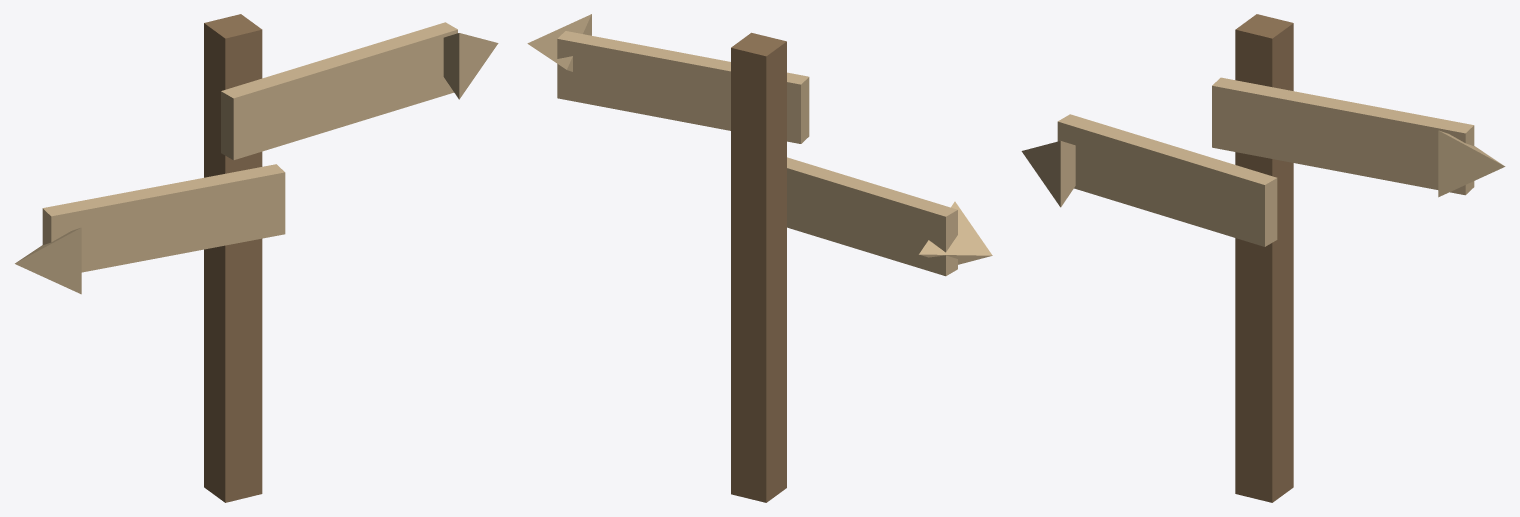
The model's file is Signpost.glb.
The picture shows the model from 3 angles, left to right: view 1: azimuth 30°, elevation 25°; view 2: azimuth 150°, elevation 25°; view 3: azimuth 330°, elevation 25°; orthographic projection. The views are drawn at different scales.
Parts seen in each view (by area): view 1: Signpost_Post, Signpost_Board, Signpost_Board.001, Signpost_Tip.001, Signpost_Tip; view 2: Signpost_Post, Signpost_Board, Signpost_Board.001, Signpost_Tip.001, Signpost_Tip; view 3: Signpost_Post, Signpost_Board, Signpost_Board.001, Signpost_Tip, Signpost_Tip.001.
Part boxes in pixels (box(x1,y1,x2,y2)): Signpost_Post: box(204, 14, 262, 502); Signpost_Board: box(221, 22, 457, 160); Signpost_Board.001: box(42, 164, 285, 272); Signpost_Tip.001: box(15, 227, 81, 294); Signpost_Tip: box(443, 33, 498, 99); Signpost_Post: box(731, 32, 786, 502); Signpost_Board: box(557, 31, 809, 143); Signpost_Board.001: box(787, 157, 957, 276); Signpost_Tip.001: box(919, 201, 992, 264); Signpost_Tip: box(527, 14, 591, 71); Signpost_Post: box(1235, 14, 1293, 502); Signpost_Board: box(1212, 77, 1474, 195); Signpost_Board.001: box(1057, 114, 1277, 246); Signpost_Tip: box(1438, 130, 1505, 197); Signpost_Tip.001: box(1021, 141, 1075, 207).
Bounding box in the file's own units: 2.62 × 2.4 × 0.3477.
